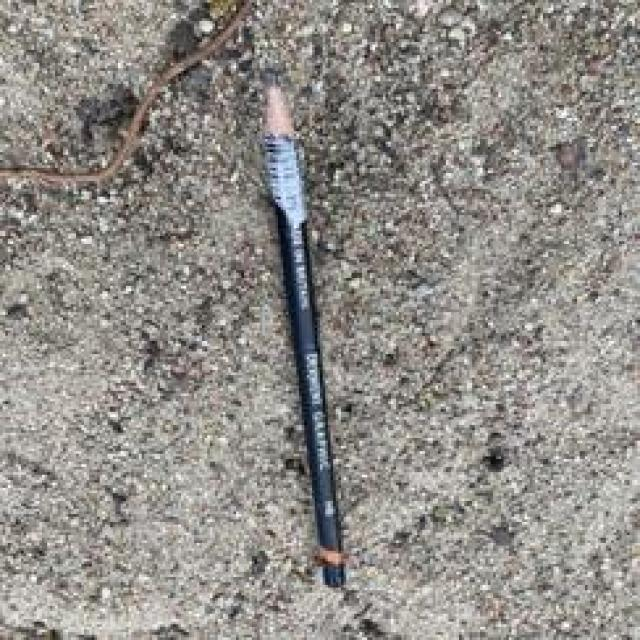pencil: (262, 87, 346, 590)
